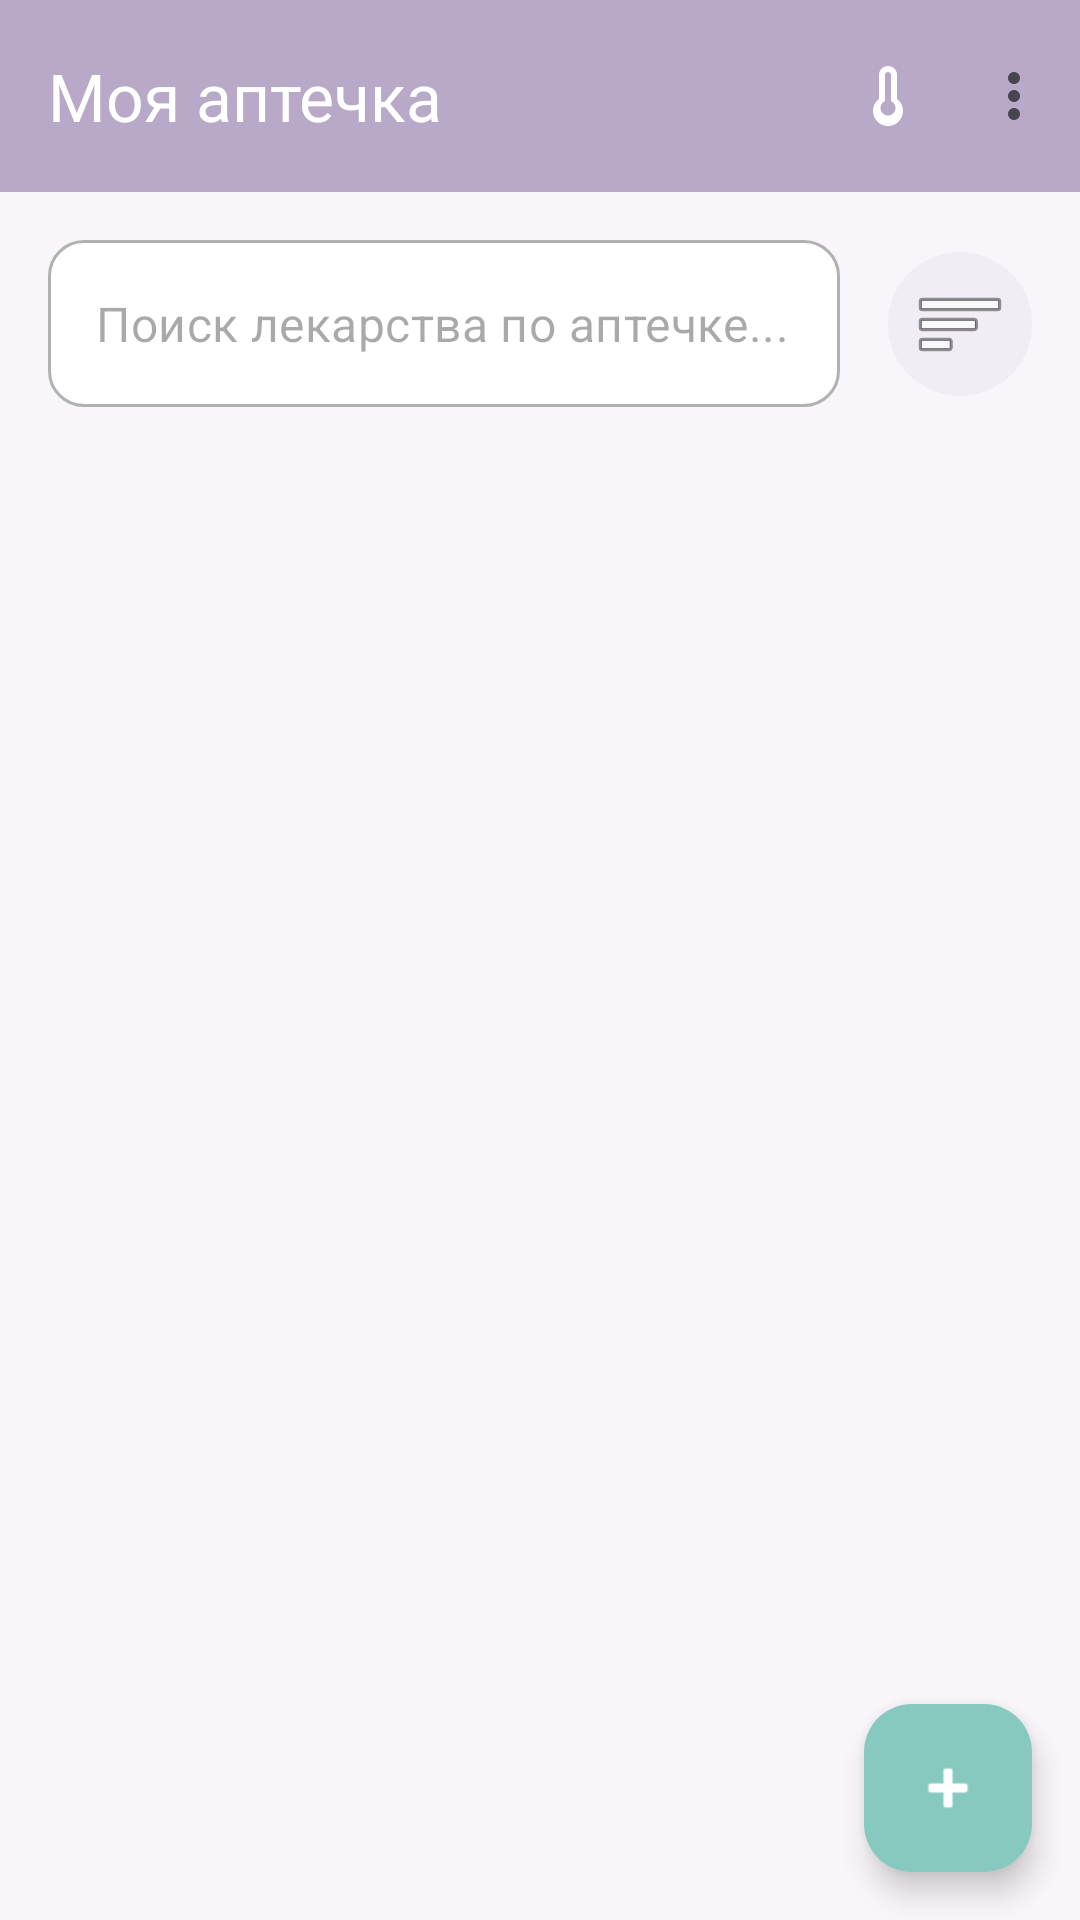

Icons on this 1080px x 1920px Android screen, each with its box as (x1, y1, x2, y2):
Добавить: (864, 1704, 1032, 1872)
Сортировка: (888, 252, 1032, 396)
